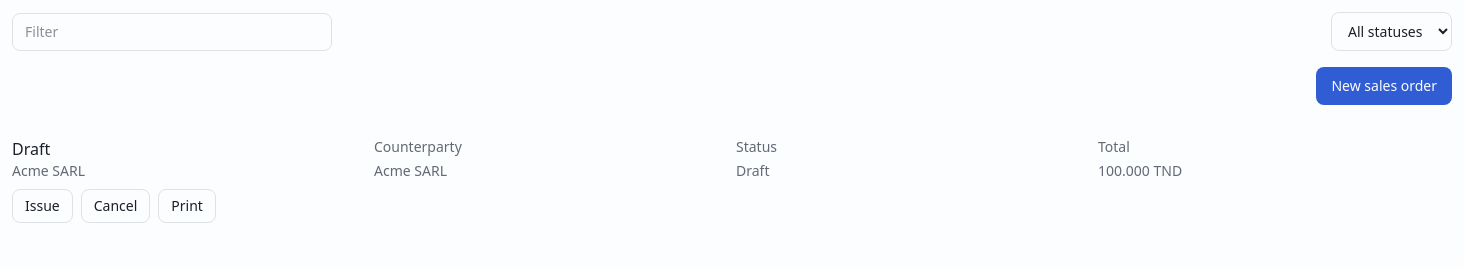
Test: DocumentList actions › shows the server message when the transition is refused
Step 1. Click the button "Issue" → (42, 206), box [12,189,73,223]
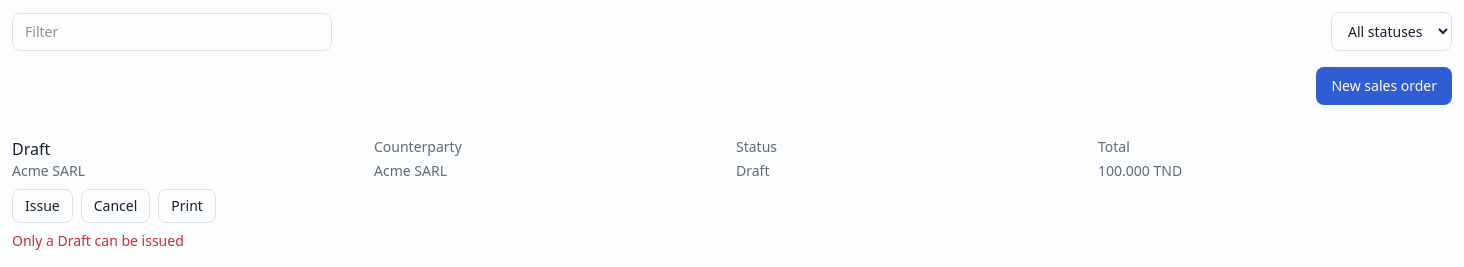
Check: the message reads "Only a Draft can be issued", box [12,231,184,250]
